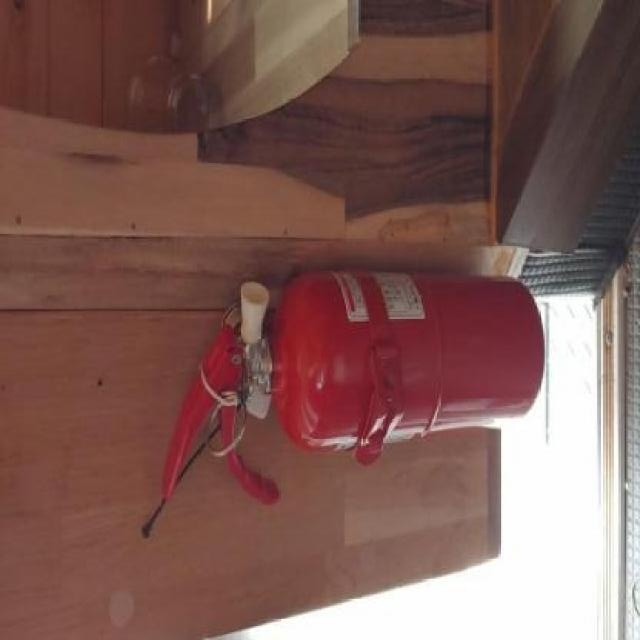fire extinguisher: (161, 270, 545, 508)
